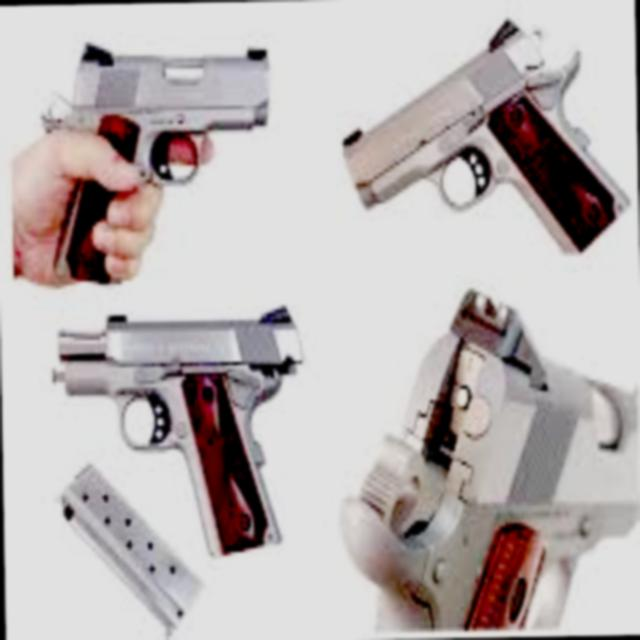semi automatic: (28, 295, 326, 640)
